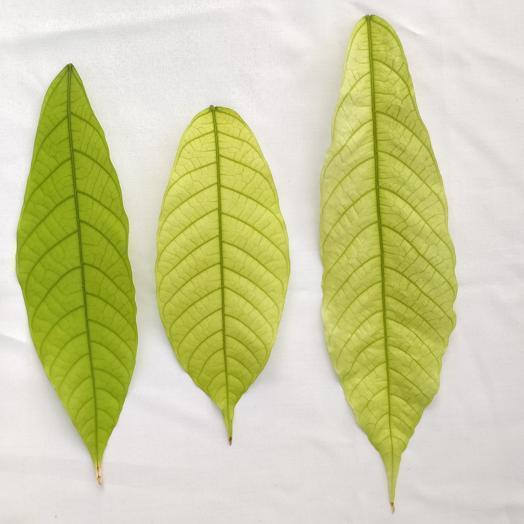Iron: (321, 16, 457, 509), (16, 64, 136, 482), (155, 106, 289, 442)
